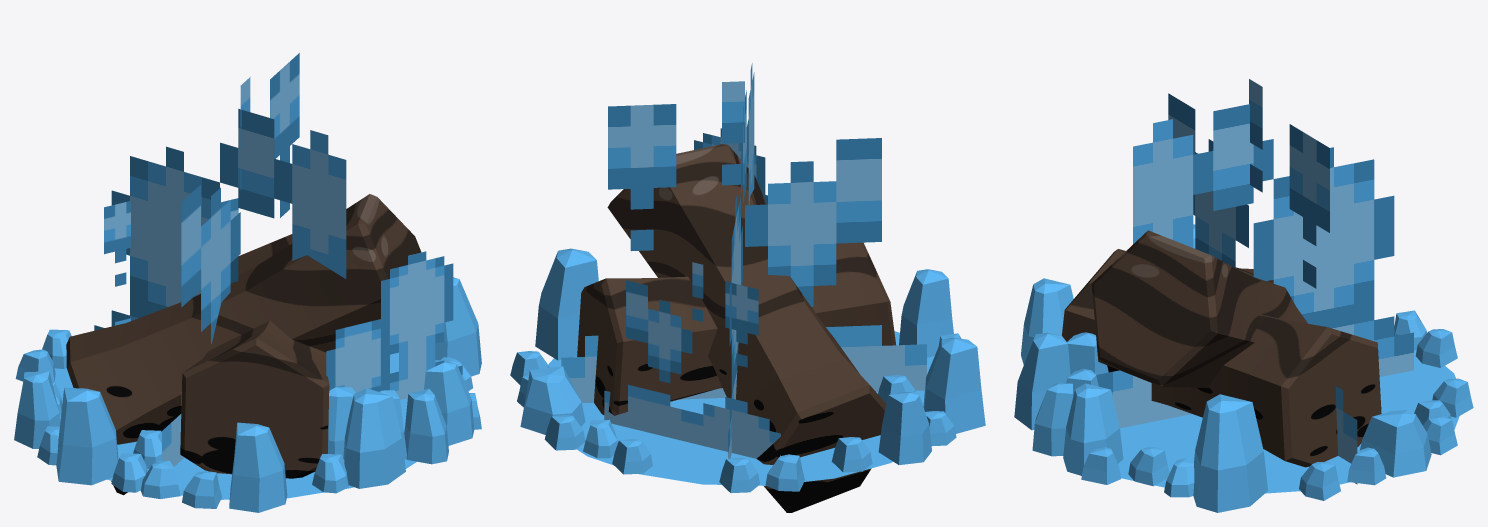
The model's file is Campfire3.fbx.
3 renders of one model, left to right at view 1: azimuth 30°, elevation 25°; view 2: azimuth 150°, elevation 25°; view 3: azimuth 270°, elevation 25°, orthographic. The views are drawn at different scales.
Parts seen in each view (by area): view 1: logs3, rocks3, cf_flamesy_b2, cf_flamesy_a2, cf_flamesy_b1, stone_circle3, cf_flamesy_a1; view 2: logs3, rocks3, cf_flamesy_b1, cf_flamesy_a1, stone_circle3, cf_flamesy_b2, cf_flamesy_a2; view 3: logs3, rocks3, cf_flamesy_b2, cf_flamesy_b1, stone_circle3.
Part boxes in pixels (bbox=[...]): logs3: bbox=[66, 194, 421, 495]; rocks3: bbox=[14, 277, 481, 512]; cf_flamesy_b2: bbox=[94, 108, 346, 330]; cf_flamesy_a2: bbox=[326, 251, 462, 399]; cf_flamesy_b1: bbox=[162, 53, 299, 466]; stone_circle3: bbox=[54, 352, 416, 499]; cf_flamesy_a1: bbox=[104, 198, 238, 325]; logs3: bbox=[577, 144, 895, 512]; rocks3: bbox=[510, 248, 985, 493]; cf_flamesy_b1: bbox=[561, 81, 926, 402]; cf_flamesy_a1: bbox=[604, 262, 780, 458]; stone_circle3: bbox=[548, 331, 934, 485]; cf_flamesy_b2: bbox=[728, 63, 754, 458]; cf_flamesy_a2: bbox=[694, 128, 767, 204]; logs3: bbox=[1062, 230, 1381, 467]; rocks3: bbox=[1014, 224, 1473, 512]; cf_flamesy_b2: bbox=[1096, 104, 1413, 428]; cf_flamesy_b1: bbox=[1168, 79, 1357, 484]; stone_circle3: bbox=[1118, 350, 1459, 493].
Bounding box in the file's own units: 39.38 × 33.59 × 35.44.
